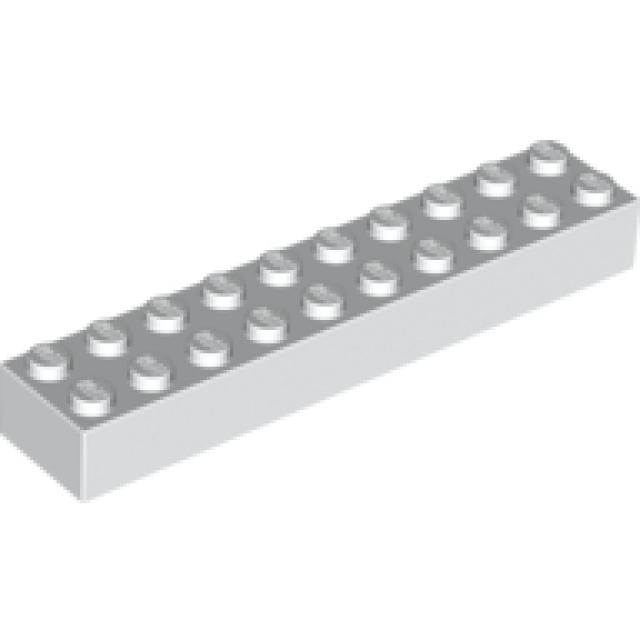White_Large: (0, 137, 640, 507)
